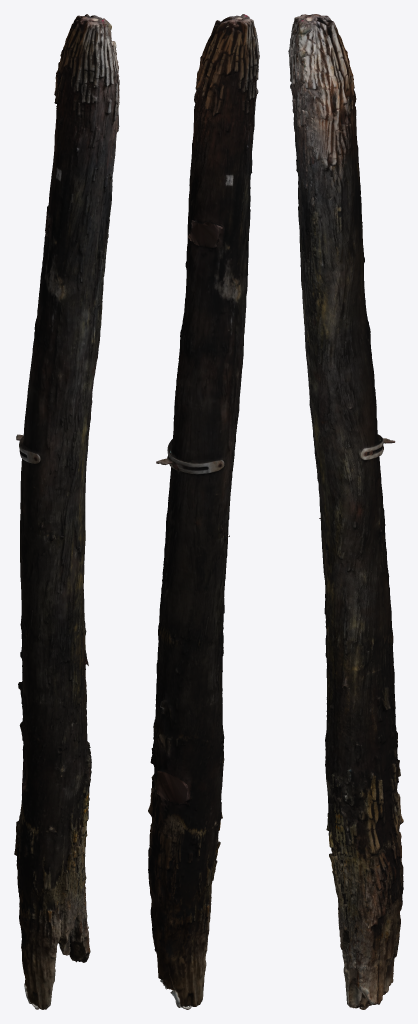
File: coc.glb
The picture shows the model from 3 angles, left to right: view 1: azimuth 90°, elevation 25°; view 2: azimuth 150°, elevation 25°; view 3: azimuth 330°, elevation 25°; orthographic projection. The views are drawn at different scales.
Bounding box in the file's own units: 4.87 × 52.74 × 5.03.
Materials: 1 (1 with a texture image).
